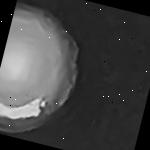colony: (0, 0, 101, 150)
